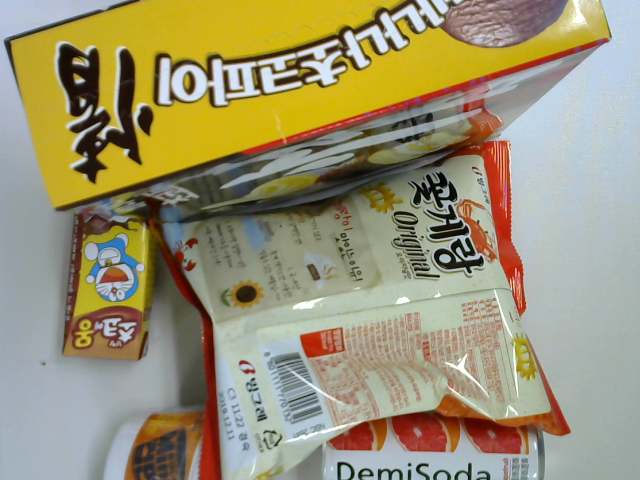Choco_E_Mong: (60, 215, 154, 362)
Choco_Pie_Banana: (4, 1, 615, 219)
Crabrang: (148, 140, 571, 480)
Demisoda_Grapefruit_Can_250ml: (319, 414, 546, 478)
Udongmini: (104, 406, 206, 480)
